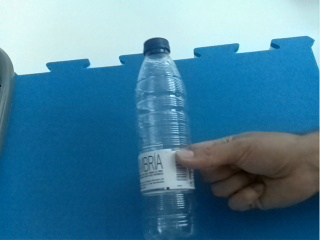botella plastico: (133, 36, 195, 240)
